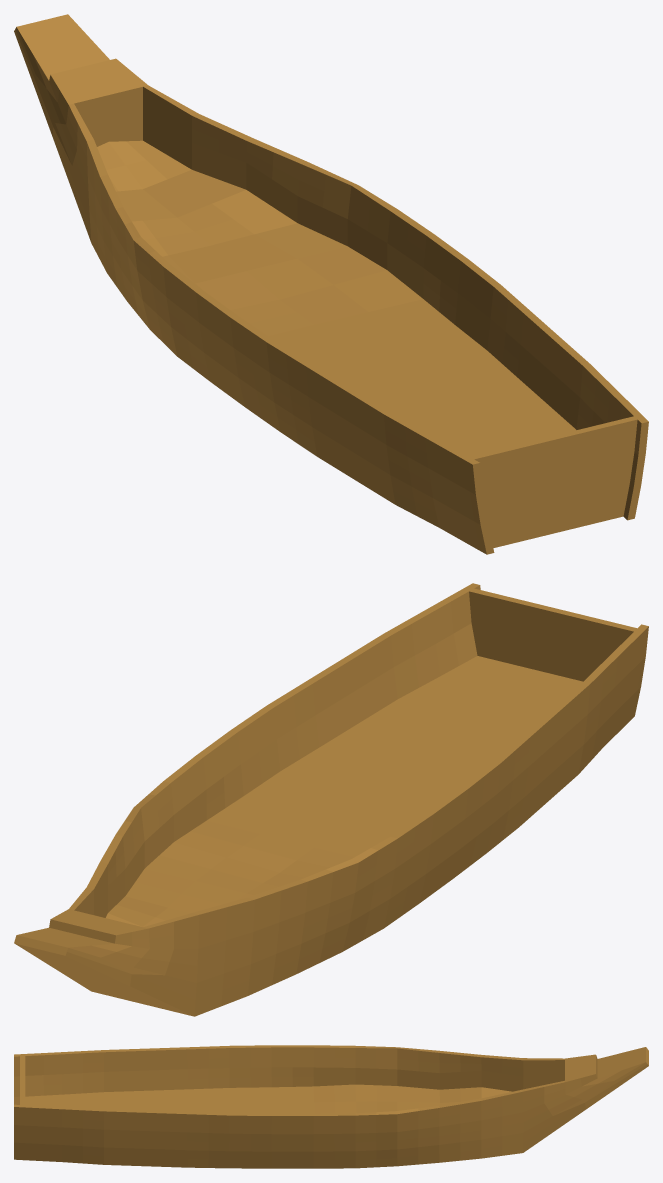
Rendered from boat.fbx.
The picture shows the model from 3 angles, top to bottom: view 1: azimuth 30°, elevation 25°; view 2: azimuth 150°, elevation 25°; view 3: azimuth 270°, elevation 25°; orthographic projection. The views are drawn at different scales.
Visible parts, largest first — view 1: Boat; view 2: Boat; view 3: Boat.
Part boxes in pixels (x1,y1,x2,y2): Boat: (14, 14, 648, 554); Boat: (14, 583, 648, 1016); Boat: (14, 1045, 648, 1168).
Bounding box in the file's own units: 163 × 616 × 88.98.
